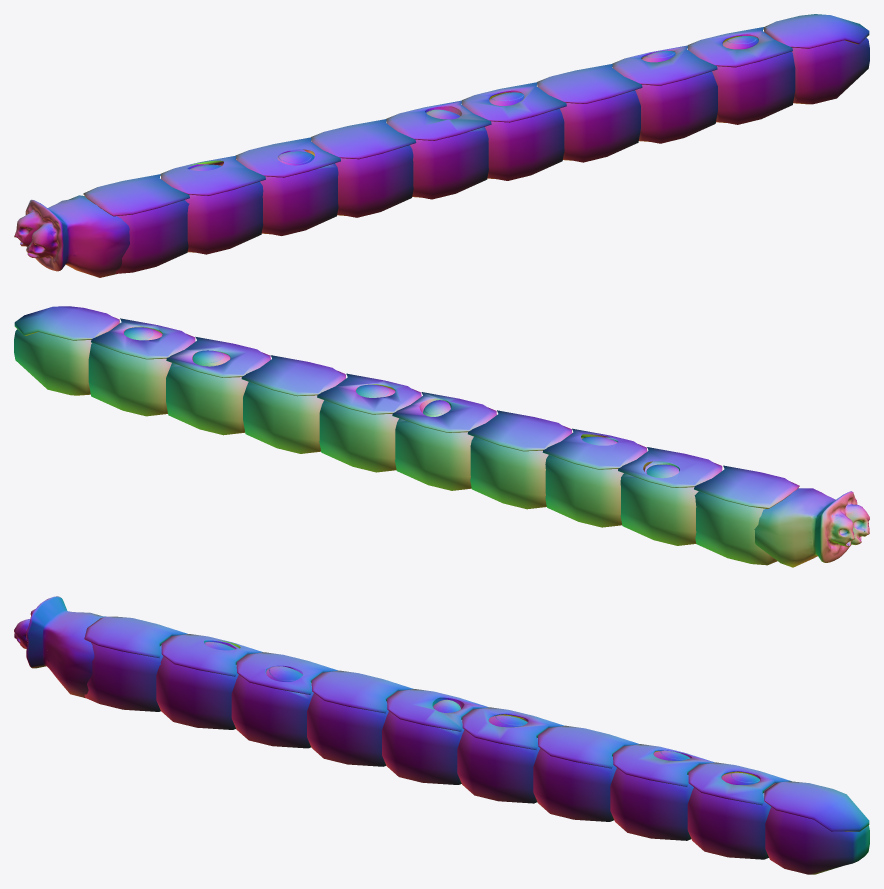
The model's file is bentipede.fbx.
3 views of the same model, one above another, from view 1: azimuth 30°, elevation 25°; view 2: azimuth 150°, elevation 25°; view 3: azimuth 330°, elevation 25° (orthographic).
Visible parts, largest first — view 1: cube 1.016, cube 1.014, cube 1.012, cube 1.010, cube 1.002, cube 1.008, cube 1.006, cube 1.004, Face cube, cube 1.018, cube 1.001; view 2: cube 1.016, cube 1.014, cube 1.012, cube 1.010, cube 1.008, cube 1.004, cube 1.006, cube 1.002, Face cube, cube 1.001, cube 1.018; view 3: cube 1.018, cube 1.016, cube 1.014, cube 1.012, cube 1.010, cube 1.008, cube 1.002, cube 1.004, cube 1.006, cube 1.001, Face cube.
Part boxes in pixels (x1=…): cube 1.016: x1=687, y1=27, x2=795, y2=124; cube 1.014: x1=612, y1=45, x2=717, y2=143; cube 1.012: x1=537, y1=64, x2=642, y2=162; cube 1.010: x1=461, y1=82, x2=566, y2=180; cube 1.002: x1=160, y1=155, x2=265, y2=254; cube 1.008: x1=386, y1=100, x2=491, y2=199; cube 1.006: x1=311, y1=119, x2=416, y2=217; cube 1.004: x1=235, y1=137, x2=340, y2=235; Face cube: x1=14, y1=195, x2=129, y2=277; cube 1.018: x1=763, y1=14, x2=869, y2=104; cube 1.001: x1=83, y1=174, x2=189, y2=273; cube 1.016: x1=88, y1=318, x2=195, y2=416; cube 1.014: x1=166, y1=336, x2=270, y2=435; cube 1.012: x1=241, y1=355, x2=345, y2=453; cube 1.010: x1=317, y1=373, x2=421, y2=472; cube 1.008: x1=392, y1=392, x2=496, y2=490; cube 1.004: x1=542, y1=428, x2=647, y2=527; cube 1.006: x1=467, y1=410, x2=572, y2=509; cube 1.002: x1=618, y1=447, x2=722, y2=545; Face cube: x1=754, y1=488, x2=869, y2=567; cube 1.001: x1=694, y1=465, x2=799, y2=565; cube 1.018: x1=14, y1=306, x2=119, y2=395; cube 1.018: x1=764, y1=781, x2=869, y2=874; cube 1.016: x1=687, y1=762, x2=791, y2=859; cube 1.014: x1=610, y1=744, x2=714, y2=840; cube 1.012: x1=533, y1=725, x2=639, y2=821; cube 1.010: x1=457, y1=707, x2=564, y2=803; cube 1.008: x1=382, y1=689, x2=488, y2=784; cube 1.002: x1=156, y1=634, x2=262, y2=729; cube 1.004: x1=231, y1=652, x2=337, y2=748; cube 1.006: x1=307, y1=670, x2=413, y2=766; cube 1.001: x1=84, y1=616, x2=187, y2=711; Face cube: x1=14, y1=596, x2=105, y2=698.
Bounding box in the file's own units: 2488 × 219 × 210.
